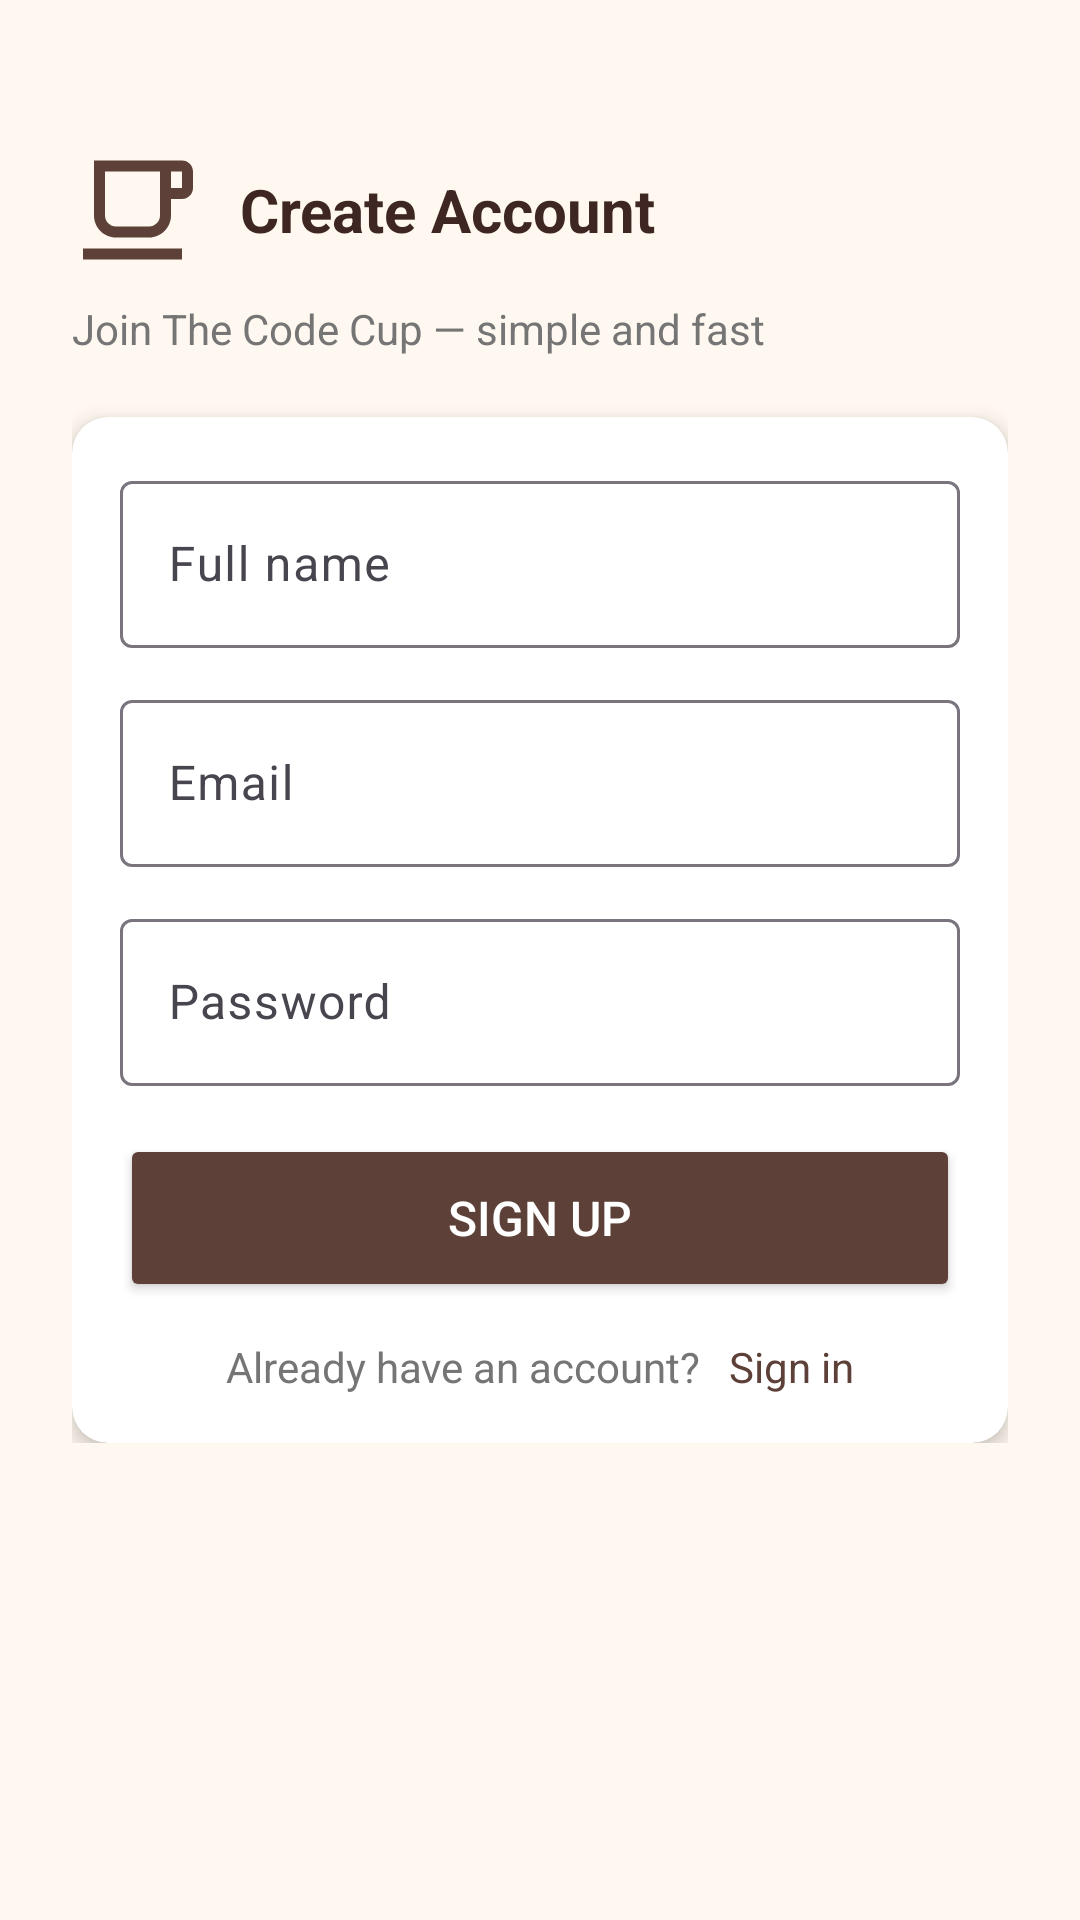

Icon bounding boxes for this 1080×1920 phone screenshot, format (x1, y1, x2, y2):
coffee cup: (83, 160, 193, 260)
